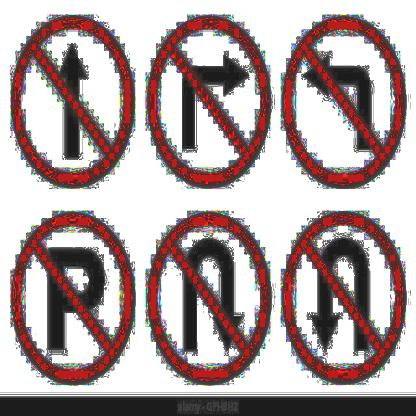No left turn: (287, 12, 401, 188)
No right turn: (147, 8, 264, 188)
